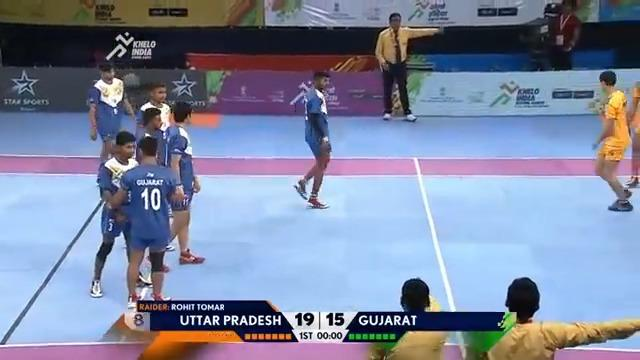Player: (107, 134, 185, 308), (479, 276, 639, 359), (89, 130, 150, 298), (161, 100, 204, 265), (367, 277, 450, 359), (589, 70, 633, 211), (86, 60, 135, 163), (546, 0, 582, 70), (135, 82, 173, 139), (624, 80, 639, 188)
Raider: (289, 70, 332, 209)
referee: (374, 12, 441, 122)
